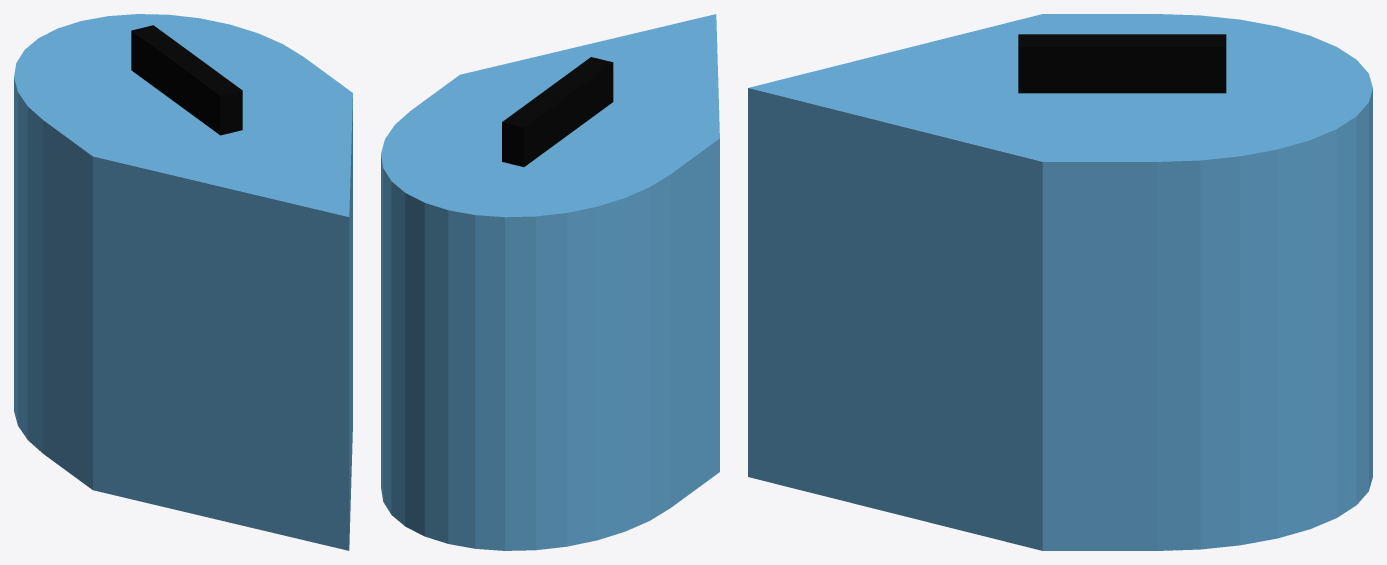
The model's file is ItHandle.fbx.
The picture shows the model from 3 angles, left to right: view 1: azimuth 30°, elevation 25°; view 2: azimuth 150°, elevation 25°; view 3: azimuth 270°, elevation 25°; orthographic projection. The views are drawn at different scales.
Visible parts, largest first — view 1: Cube.001; view 2: Cube.001; view 3: Cube.001.
Part boxes in pixels (bbox=[...]): Cube.001: bbox=[14, 14, 352, 550]; Cube.001: bbox=[381, 14, 719, 550]; Cube.001: bbox=[748, 14, 1372, 550].
Bounding box in the file's own units: 163 × 224 × 291.
